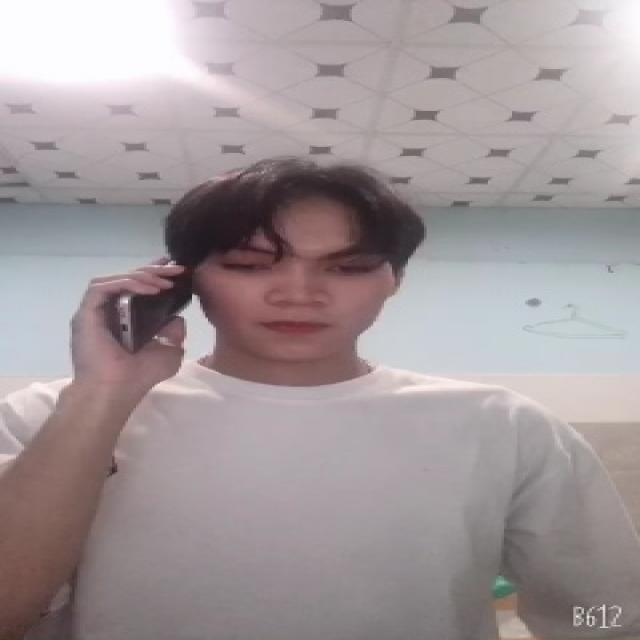Phone: (110, 252, 198, 359)
